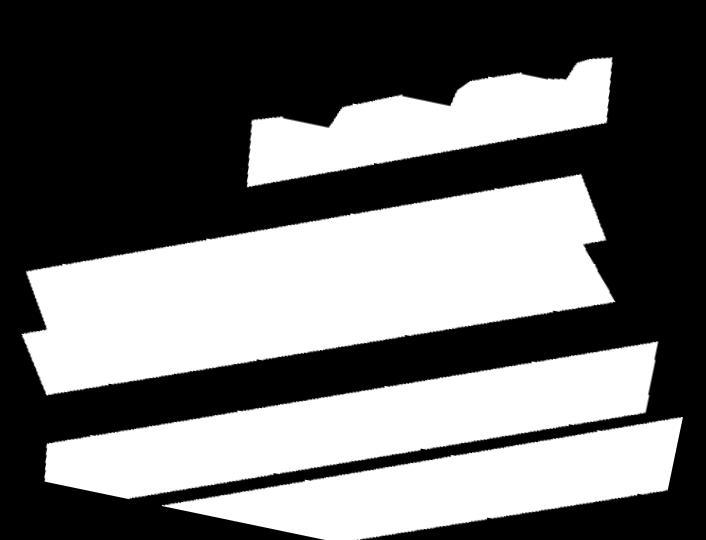parkingspot: (22, 174, 615, 395), (44, 341, 658, 499), (162, 417, 683, 540), (247, 57, 613, 187)
